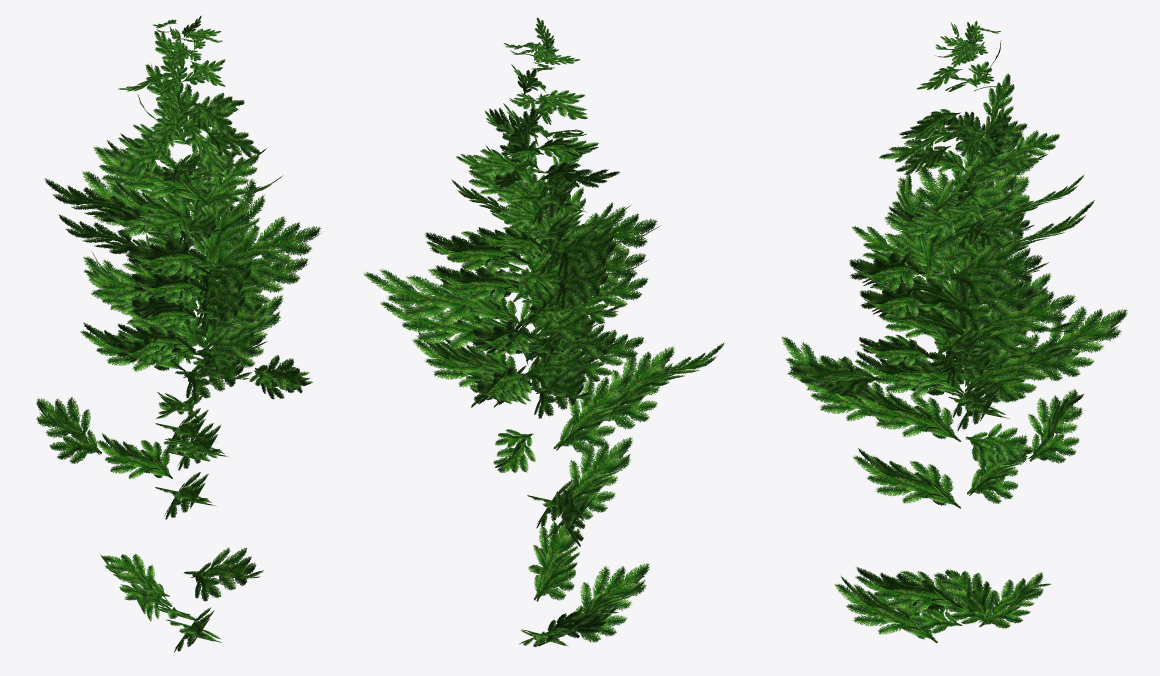
Rendered from tree leaves.fbx.
3 views of the same model, side by side, from view 1: azimuth 30°, elevation 25°; view 2: azimuth 150°, elevation 25°; view 3: azimuth 270°, elevation 25° (orthographic). The views are drawn at different scales.
Visible parts, largest first — view 1: kissclipart-christmas-tree-leaf-png-clipart-fir-clip-art-420; view 2: kissclipart-christmas-tree-leaf-png-clipart-fir-clip-art-420; view 3: kissclipart-christmas-tree-leaf-png-clipart-fir-clip-art-420.
Part boxes in pixels (<box>): kissclipart-christmas-tree-leaf-png-clipart-fir-clip-art-420: <box>36,15,321,652</box>; kissclipart-christmas-tree-leaf-png-clipart-fir-clip-art-420: <box>363,17,724,647</box>; kissclipart-christmas-tree-leaf-png-clipart-fir-clip-art-420: <box>781,20,1127,642</box>.
Size of the model in its own units: 293 by 686 by 363.
